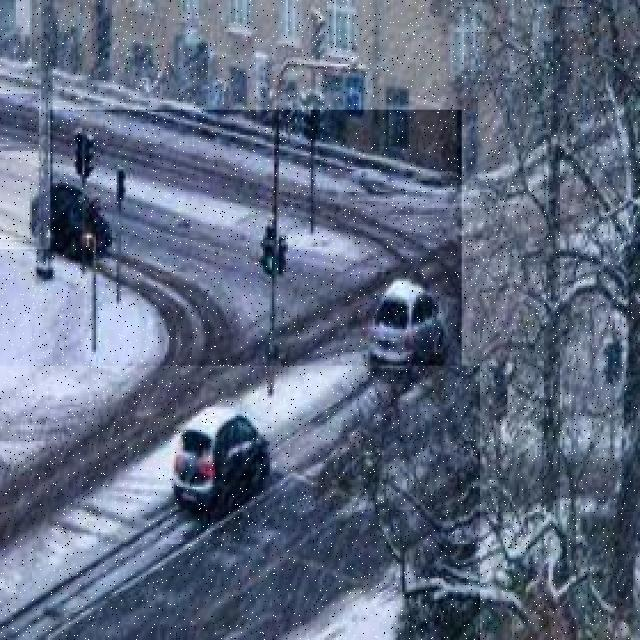ice-road: (0, 367, 480, 640), (51, 110, 462, 368), (0, 250, 265, 554), (0, 97, 39, 151), (0, 183, 30, 240)
